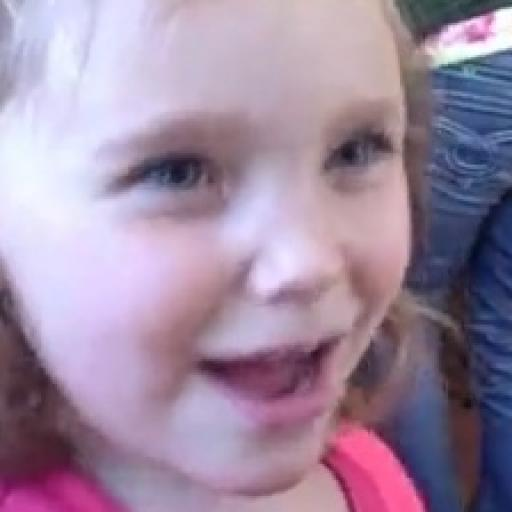Autism: (0, 0, 435, 512)
